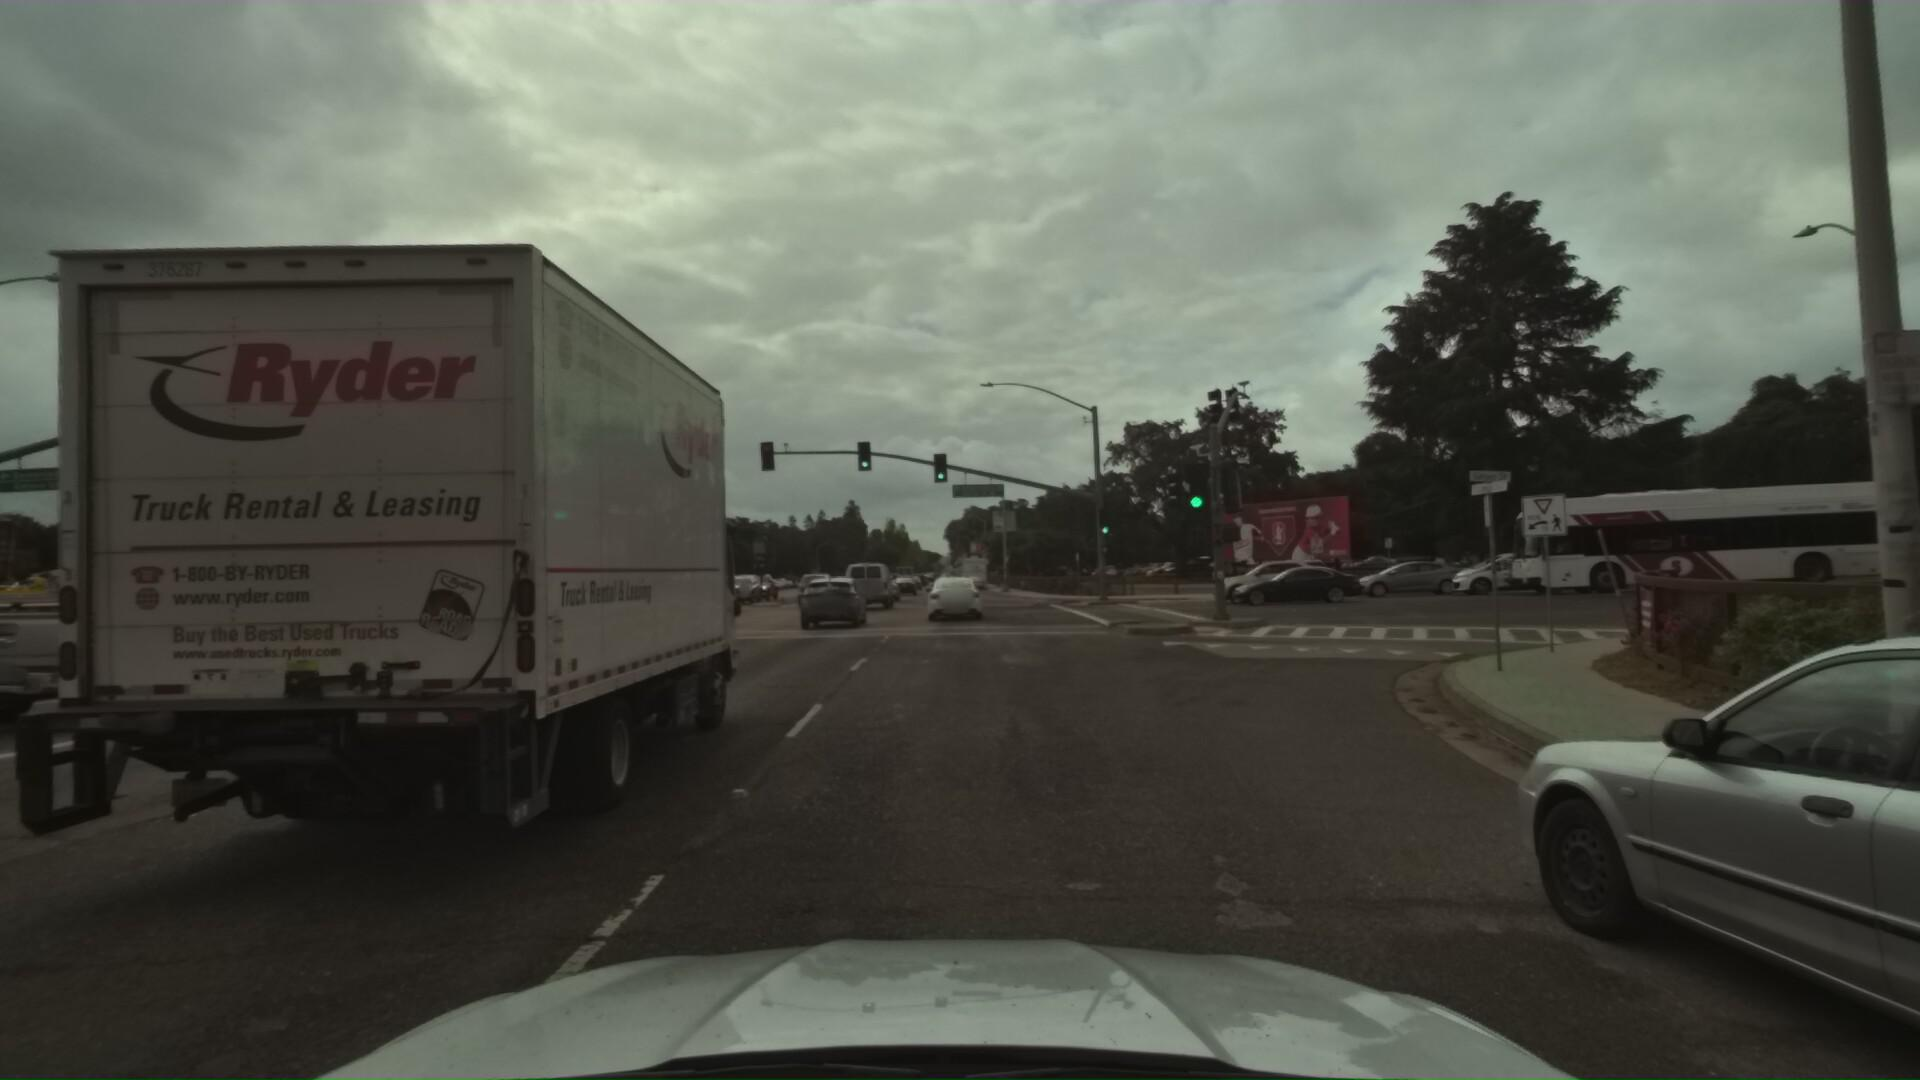bus: (1485, 468, 1920, 597)
car: (1462, 587, 1920, 1080), (0, 551, 365, 752), (1443, 545, 1578, 593), (1207, 553, 1331, 603), (1226, 559, 1364, 604), (1342, 558, 1464, 599), (793, 574, 868, 632), (920, 574, 980, 622), (840, 558, 893, 611), (927, 567, 972, 608), (787, 572, 833, 608), (717, 575, 766, 607), (736, 574, 781, 604), (869, 576, 905, 605), (890, 576, 916, 597)
truck: (0, 194, 770, 947)
